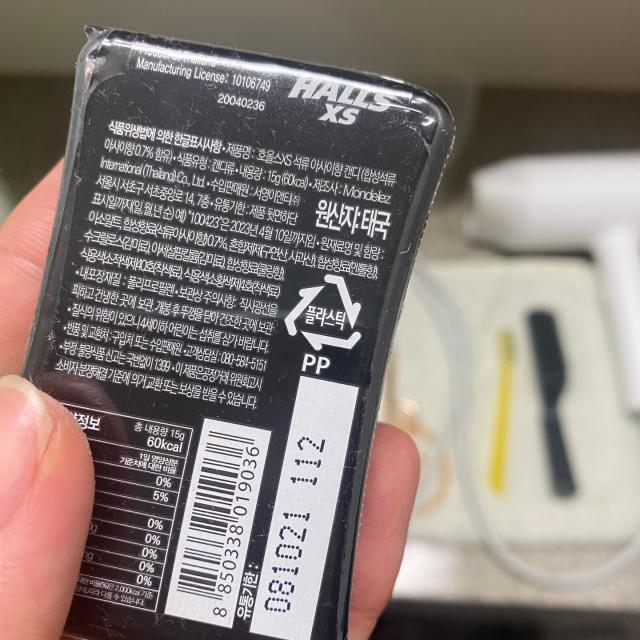Plastic: (282, 267, 367, 352)
